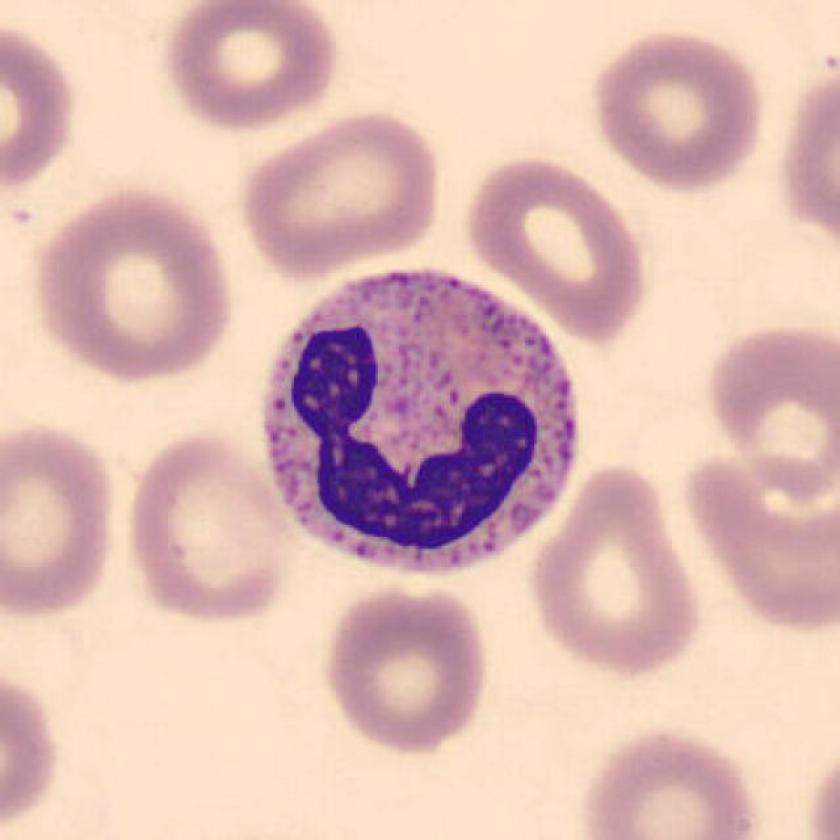neutrophil: (266, 272, 579, 575)
